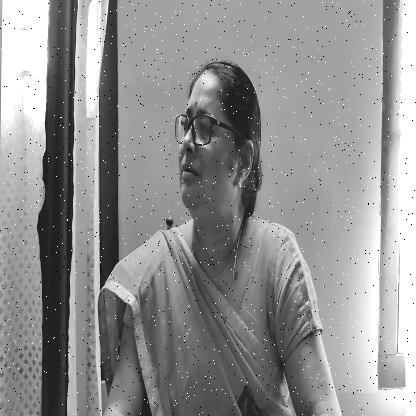Distracted: (170, 67, 261, 234)
